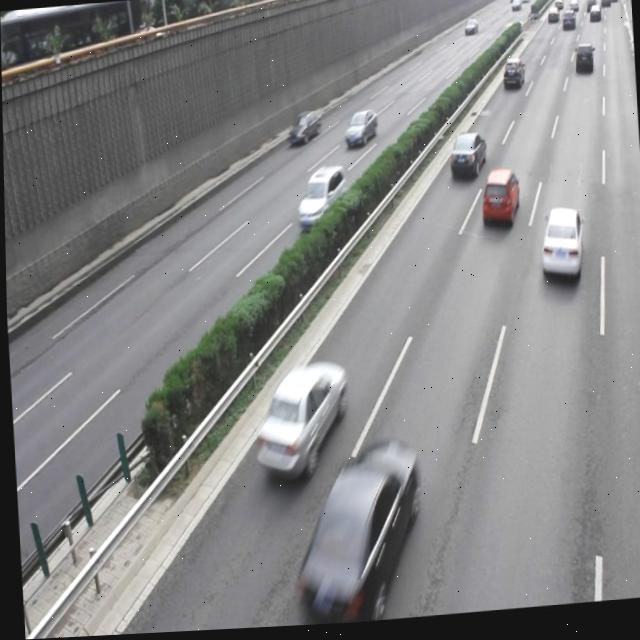car: (283, 438, 421, 619), (246, 359, 348, 483), (535, 212, 582, 287), (293, 166, 345, 228), (476, 172, 519, 233), (445, 134, 486, 185), (286, 111, 321, 150), (341, 112, 376, 149)
